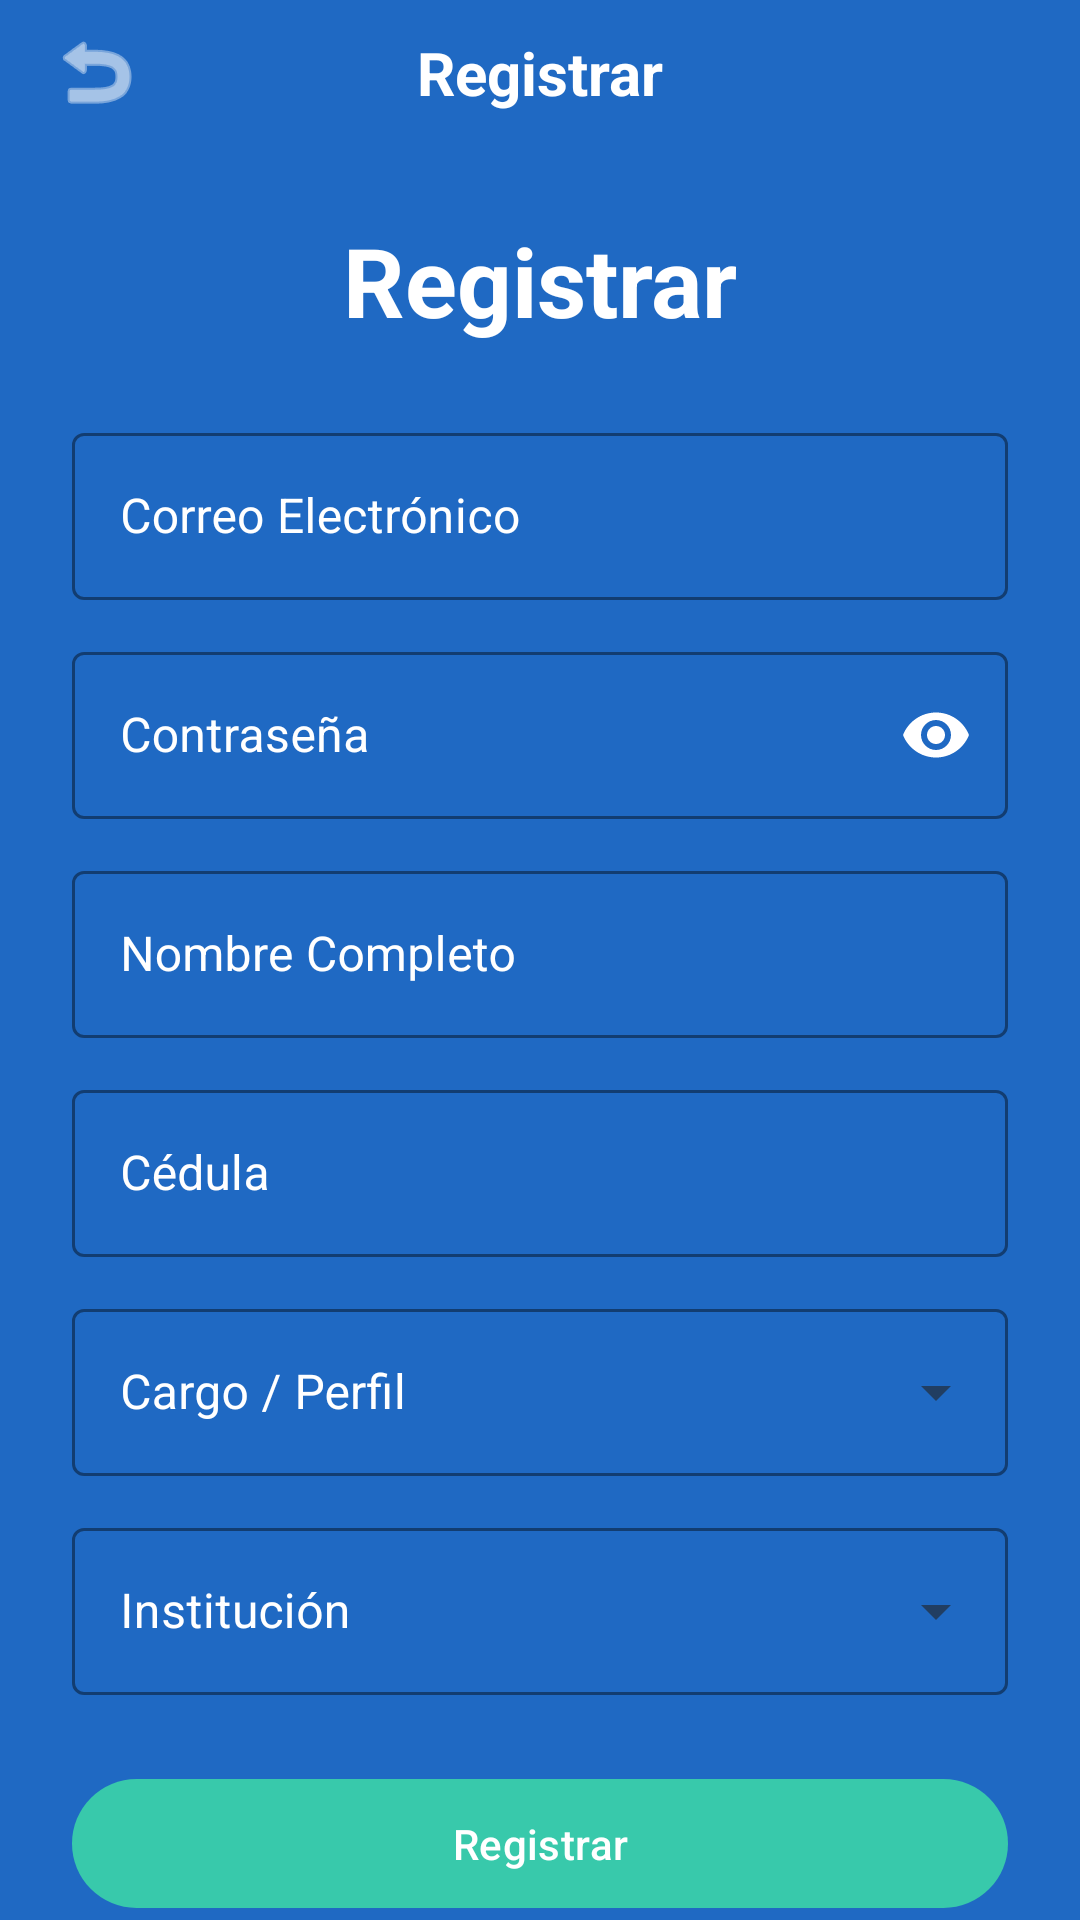

Where to tap for icons on this 1080px×1920px app screen, as (x,y):
Atrás: (97,72)
